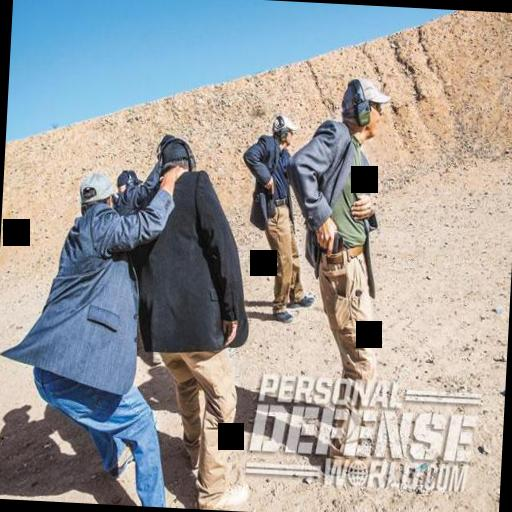Handgun: (314, 228, 342, 260), (263, 174, 277, 200)
